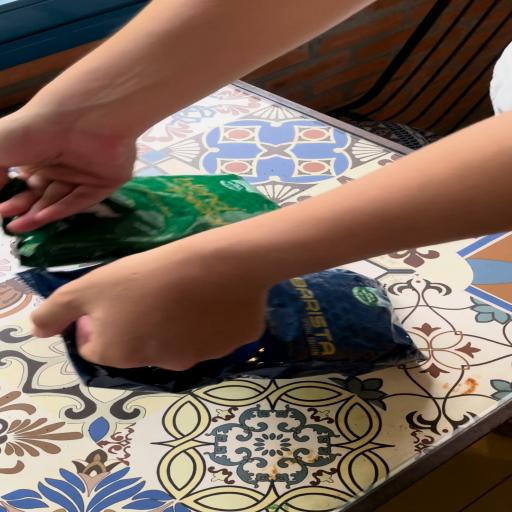cafe_hat: (63, 269, 424, 394), (18, 263, 107, 298)
cafe_xay: (2, 175, 277, 268)
